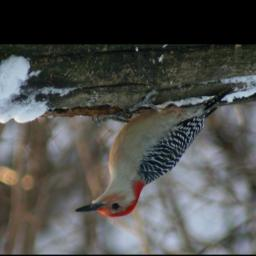Woodpecker: (72, 89, 232, 217)
